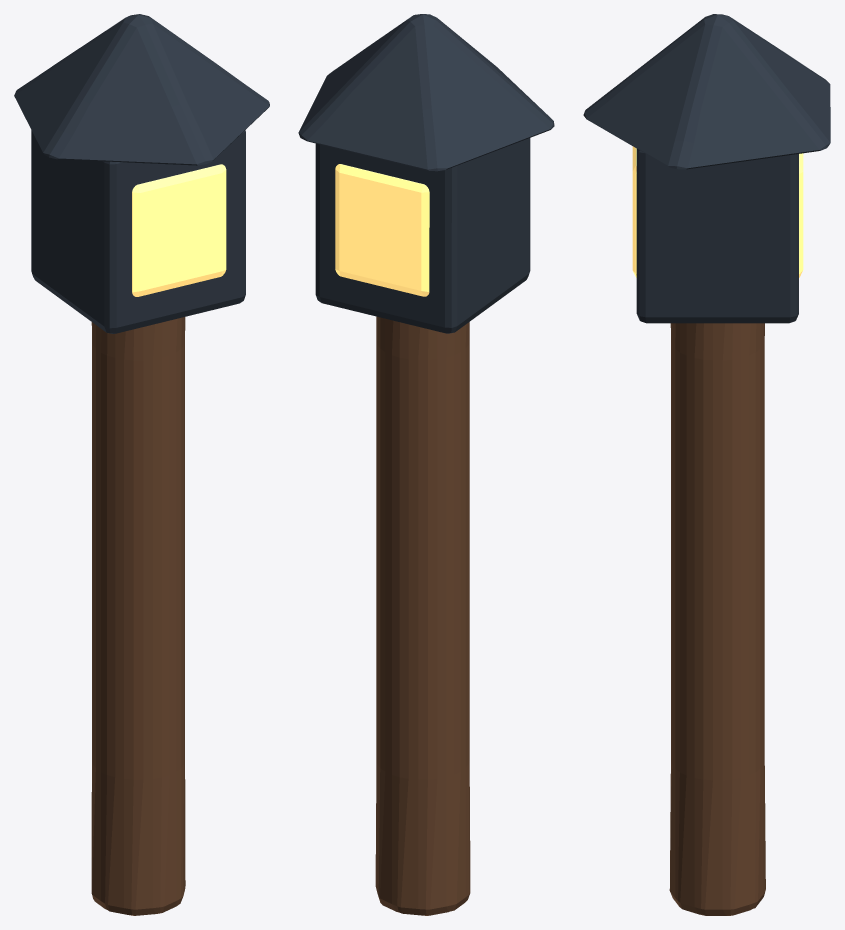
Rendered from lantern.glb.
3 renders of one model, left to right at view 1: azimuth 30°, elevation 25°; view 2: azimuth 150°, elevation 25°; view 3: azimuth 270°, elevation 25°, orthographic.
Parts seen in each view (by area): view 1: _MeshInstance3D_546.001, _MeshInstance3D_549.001, _MeshInstance3D_547.001, _MeshInstance3D_548.001; view 2: _MeshInstance3D_546.001, _MeshInstance3D_549.001, _MeshInstance3D_547.001, _MeshInstance3D_548.001; view 3: _MeshInstance3D_546.001, _MeshInstance3D_547.001, _MeshInstance3D_549.001, _MeshInstance3D_548.001.
Boxes of the visible parts, bbox=[...] form: _MeshInstance3D_546.001: bbox=[91, 317, 185, 915]; _MeshInstance3D_549.001: bbox=[14, 14, 269, 165]; _MeshInstance3D_547.001: bbox=[31, 130, 245, 333]; _MeshInstance3D_548.001: bbox=[132, 164, 226, 296]; _MeshInstance3D_546.001: bbox=[375, 316, 470, 915]; _MeshInstance3D_549.001: bbox=[298, 14, 554, 171]; _MeshInstance3D_547.001: bbox=[315, 138, 530, 333]; _MeshInstance3D_548.001: bbox=[335, 164, 429, 296]; _MeshInstance3D_546.001: bbox=[669, 323, 765, 915]; _MeshInstance3D_547.001: bbox=[636, 149, 798, 323]; _MeshInstance3D_549.001: bbox=[583, 14, 830, 169]; _MeshInstance3D_548.001: bbox=[632, 146, 803, 277].
Size of the model in its own units: 0.6329 by 2.41 by 0.6084.
